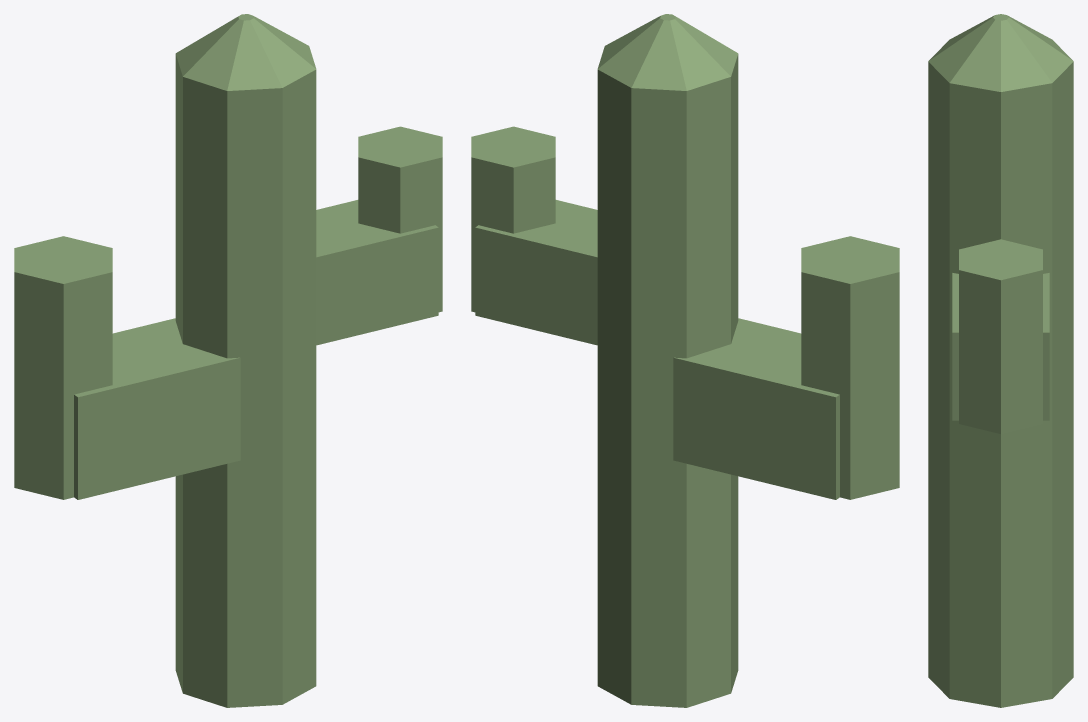
File: w_kaktus_c.glb
3 renders of one model, left to right at view 1: azimuth 30°, elevation 25°; view 2: azimuth 150°, elevation 25°; view 3: azimuth 270°, elevation 25°, orthographic.
Parts seen in each view (by area): view 1: koerper; view 2: koerper; view 3: koerper.
Part boxes in pixels (<box>): koerper: <box>14,14,442,707</box>; koerper: <box>471,14,899,707</box>; koerper: <box>928,14,1073,707</box>.
Bounding box in the file's own units: 3.05 × 4.5 × 0.9.
